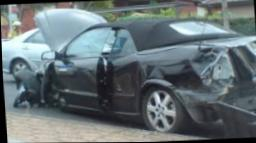Door: (110, 58, 147, 95)
Fender: (145, 48, 221, 85)
Light: (202, 49, 236, 85)
